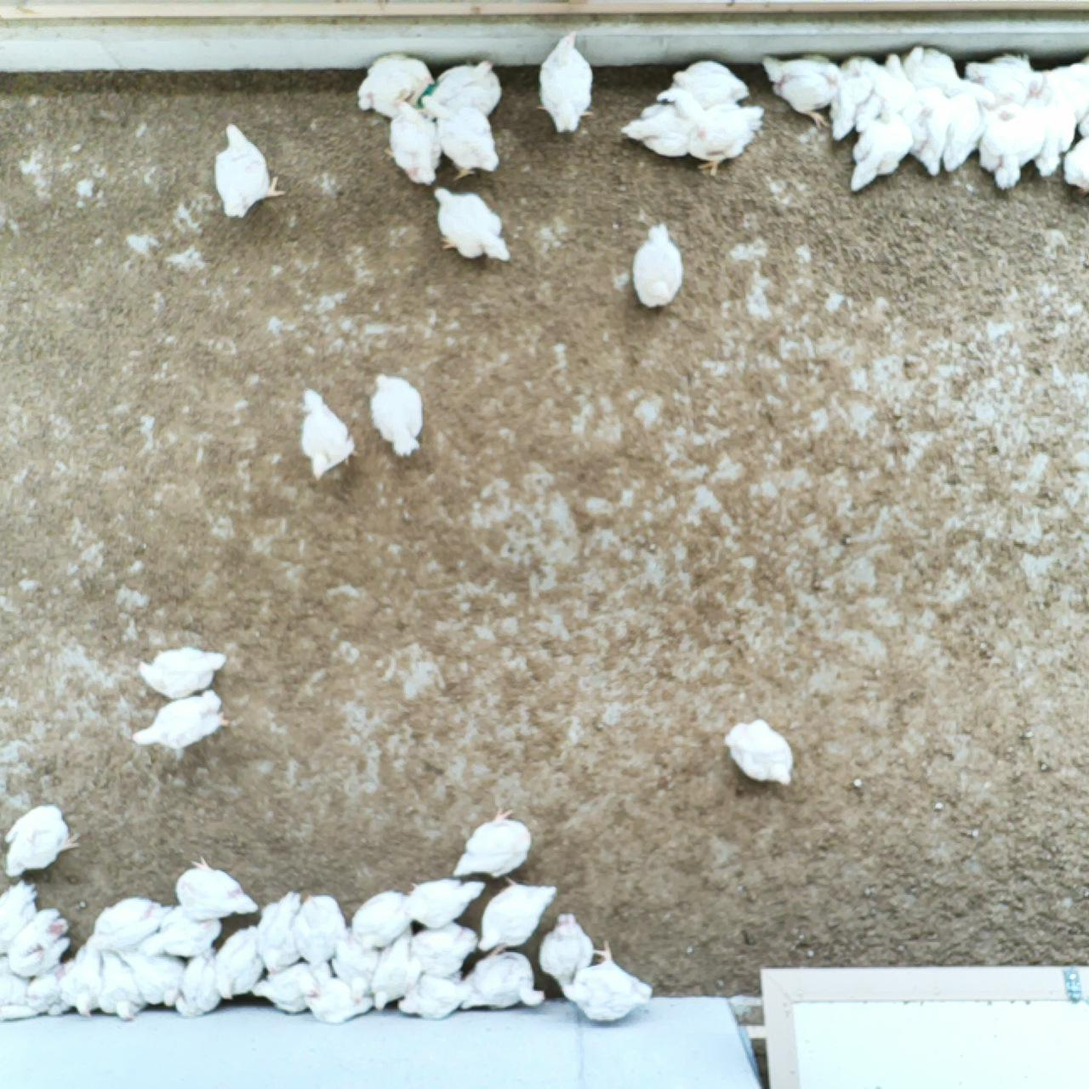chicken: (559, 937, 649, 1028), (214, 122, 285, 220), (130, 688, 230, 757), (534, 32, 596, 140), (456, 942, 544, 1017), (431, 184, 512, 263), (762, 52, 843, 130), (0, 802, 77, 884), (475, 877, 557, 953), (687, 106, 770, 180), (978, 103, 1046, 193), (382, 100, 450, 189), (847, 111, 916, 195), (170, 861, 265, 921), (427, 107, 503, 181), (353, 51, 434, 118), (454, 807, 531, 877), (130, 643, 228, 697), (627, 225, 687, 313), (366, 369, 425, 458), (300, 388, 357, 479), (623, 98, 705, 160), (82, 938, 142, 1022), (429, 58, 506, 123), (9, 905, 77, 978), (367, 925, 419, 1020), (815, 52, 872, 138), (934, 81, 984, 179), (722, 717, 794, 785), (898, 82, 948, 179), (327, 924, 388, 1003), (143, 901, 225, 958), (964, 51, 1044, 109), (294, 889, 350, 970), (670, 57, 753, 111), (91, 895, 169, 952), (255, 889, 305, 976), (539, 914, 596, 990), (352, 889, 418, 954), (403, 874, 483, 927), (217, 923, 268, 1005), (1030, 92, 1078, 179), (174, 945, 228, 1022), (398, 976, 478, 1026), (0, 874, 46, 957), (864, 47, 914, 122), (300, 979, 379, 1026), (408, 923, 480, 974), (23, 955, 79, 1020), (252, 963, 323, 1013), (900, 44, 965, 97), (121, 949, 180, 1006), (0, 965, 43, 1029), (1047, 63, 1089, 128), (60, 959, 99, 1015), (1062, 135, 1089, 196)
